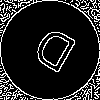D: (25, 25, 79, 83)
